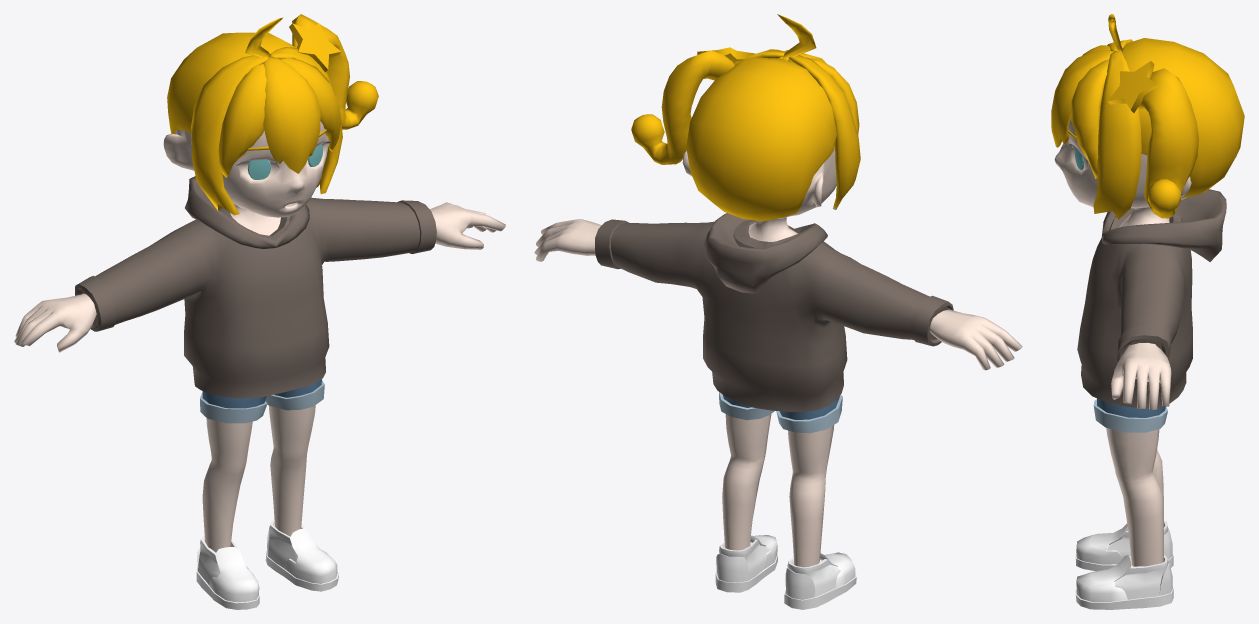
The model's file is yellow_body.fbx.
3 renders of one model, left to right at view 1: azimuth 30°, elevation 25°; view 2: azimuth 150°, elevation 25°; view 3: azimuth 270°, elevation 25°, orthographic.
Visible parts, largest first — view 1: yellow_clothes, yellow_hair, yellow_leg, yellow_shoes, yellow_head, yellow_hand, yellow_clothes2, yellow_acc; view 2: yellow_clothes, yellow_hair, yellow_leg, yellow_shoes, yellow_hand, yellow_head, yellow_clothes2; view 3: yellow_hair, yellow_clothes, yellow_shoes, yellow_leg, yellow_hand, yellow_head, yellow_clothes2, yellow_acc.
Boxes of the visible parts, <box> form: yellow_clothes: <box>75,176,436,398</box>; yellow_hair: <box>167,14,378,215</box>; yellow_leg: <box>202,405,315,552</box>; yellow_shoes: <box>196,520,338,609</box>; yellow_head: <box>163,121,328,235</box>; yellow_hand: <box>14,202,505,352</box>; yellow_clothes2: <box>200,379,324,423</box>; yellow_acc: <box>289,23,340,72</box>; yellow_clothes: <box>595,213,953,411</box>; yellow_hair: <box>631,14,860,221</box>; yellow_leg: <box>722,414,834,567</box>; yellow_shoes: <box>715,535,856,609</box>; yellow_hand: <box>534,219,1022,370</box>; yellow_head: <box>682,146,836,241</box>; yellow_clothes2: <box>719,392,842,433</box>; yellow_hair: <box>1051,14,1244,219</box>; yellow_clothes: <box>1077,189,1226,408</box>; yellow_shoes: <box>1075,520,1173,609</box>; yellow_leg: <box>1106,428,1163,566</box>; yellow_hand: <box>1111,342,1171,409</box>; yellow_head: <box>1054,117,1191,227</box>; yellow_clothes2: <box>1093,398,1167,432</box>; yellow_acc: <box>1107,61,1159,112</box>.
Bounding box in the file's own units: 117 × 131 × 40.48.
